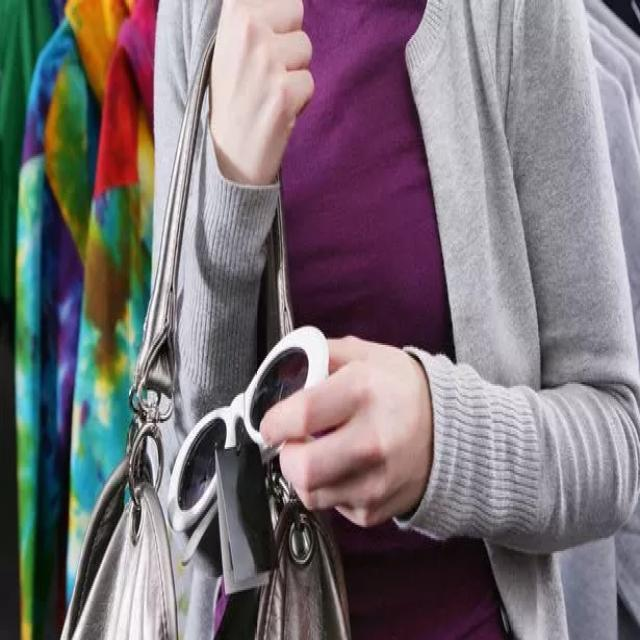Normal: (120, 149, 484, 628)
